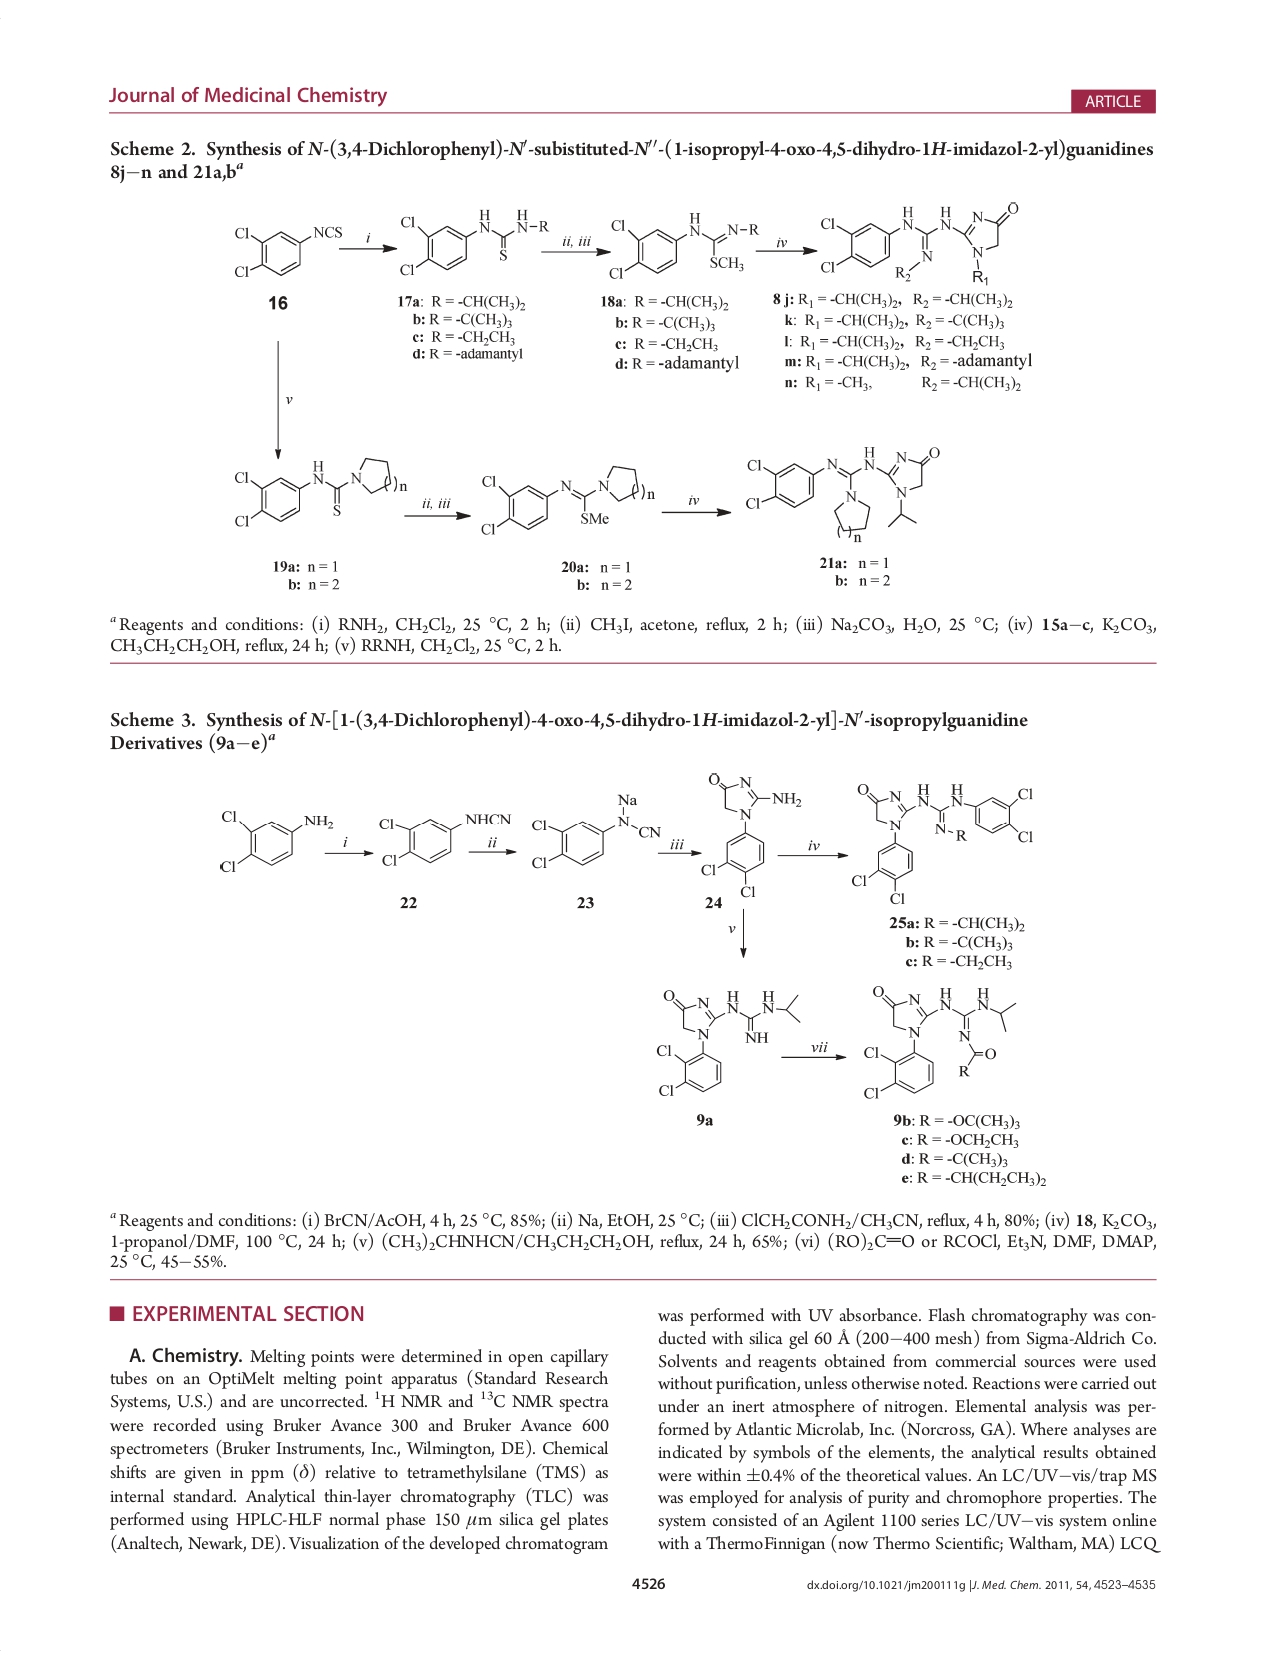exist_molecular: (848, 777, 1036, 910), (745, 442, 942, 545), (860, 981, 1020, 1102), (652, 983, 803, 1102), (817, 199, 1020, 286), (477, 463, 657, 539), (230, 453, 408, 529), (701, 770, 802, 899), (609, 210, 759, 285), (398, 206, 551, 279), (529, 789, 662, 871), (210, 805, 335, 878), (376, 806, 516, 868), (219, 217, 343, 285)
